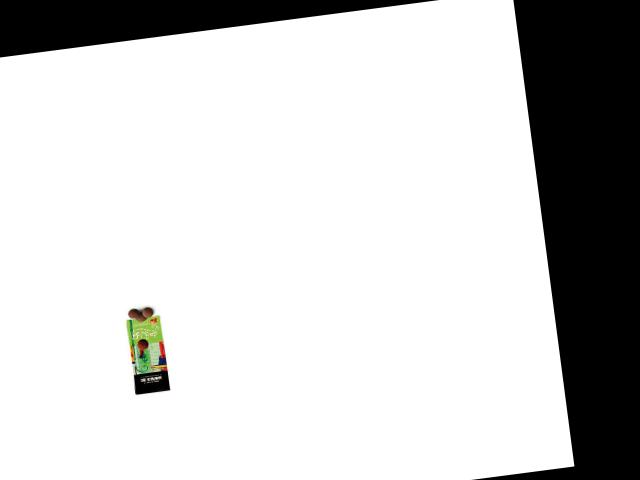chocolate: (117, 313, 175, 399)
